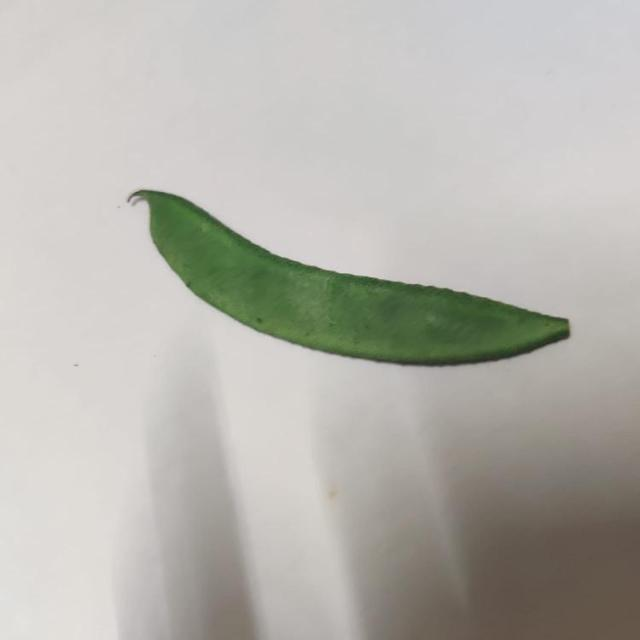Organik: (134, 182, 577, 366)
